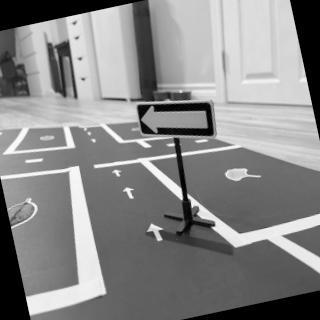road_oneway: (142, 216, 170, 248), (122, 183, 139, 207), (112, 166, 128, 182), (89, 137, 100, 147), (86, 131, 93, 138)
sign_oneway_left: (134, 87, 223, 155)
